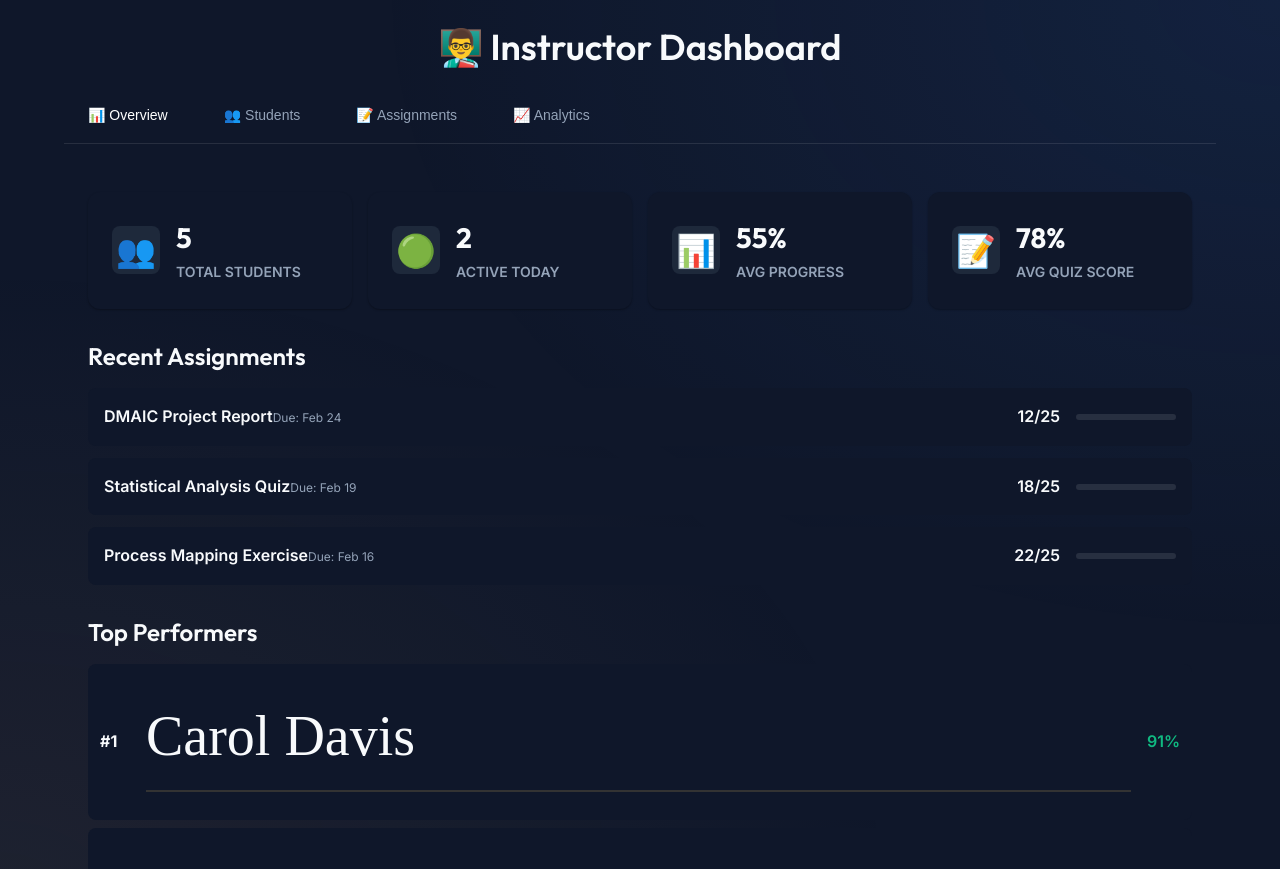
Scenario: InstructorDashboard › switches to assignments tab when clicked
The image size is (1280, 869).
Click the button "📝 Assignments" at (407, 115), box [332,95,481,135]
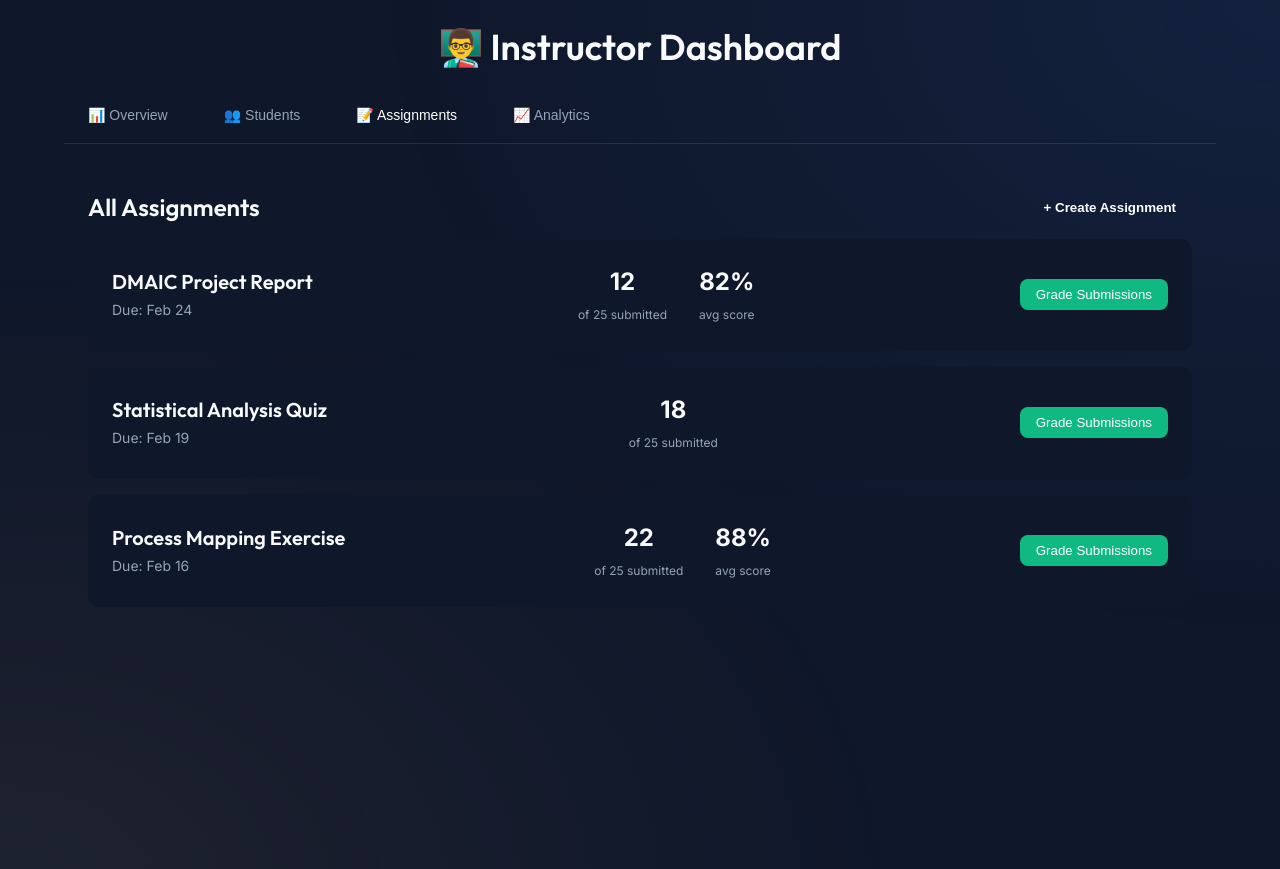
Result: the heading "All Assignments" is shown at [88,192,260,223]
